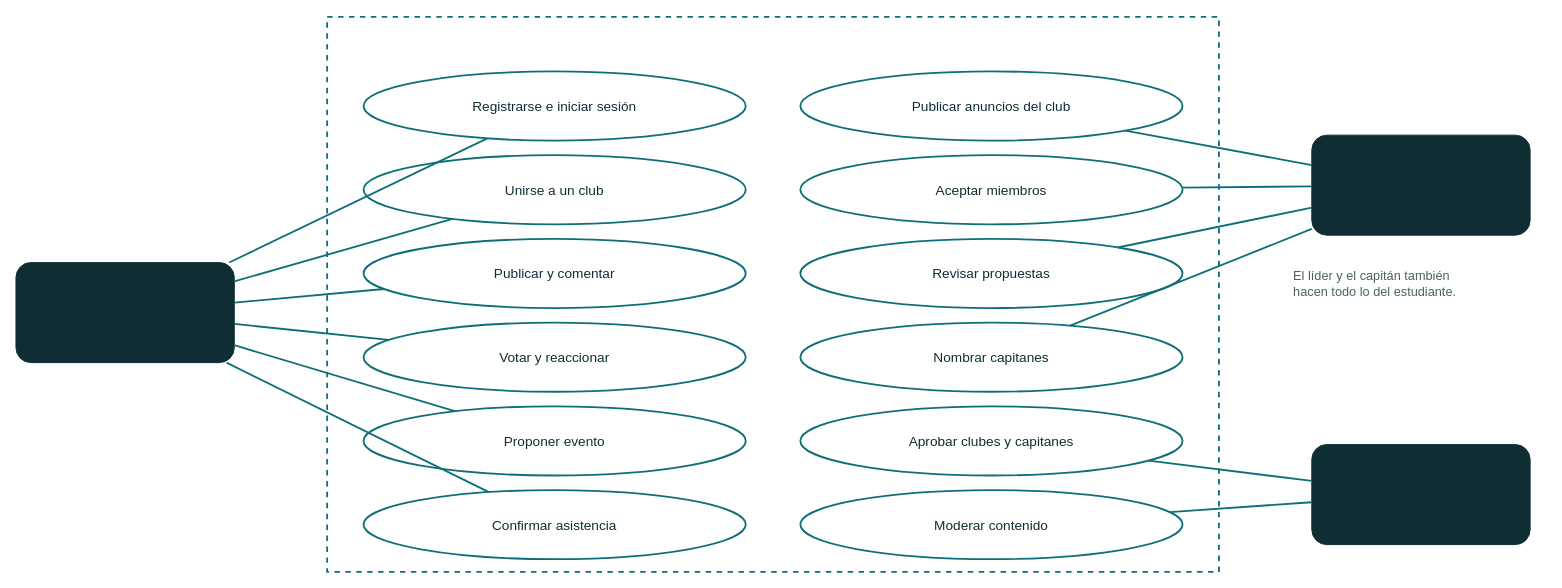
Some shapes in this 1562 by 588 pixel diagram are drawn without their labels. The box of each missing label's shape, as (x1, y1, x2, y2) in pixels:
Administración: (1311, 444, 1530, 545)
Estudiante: (15, 262, 234, 363)
Líder o capitán: (1311, 134, 1530, 235)
Sistema Vortex Clubs: (326, 15, 1219, 572)
